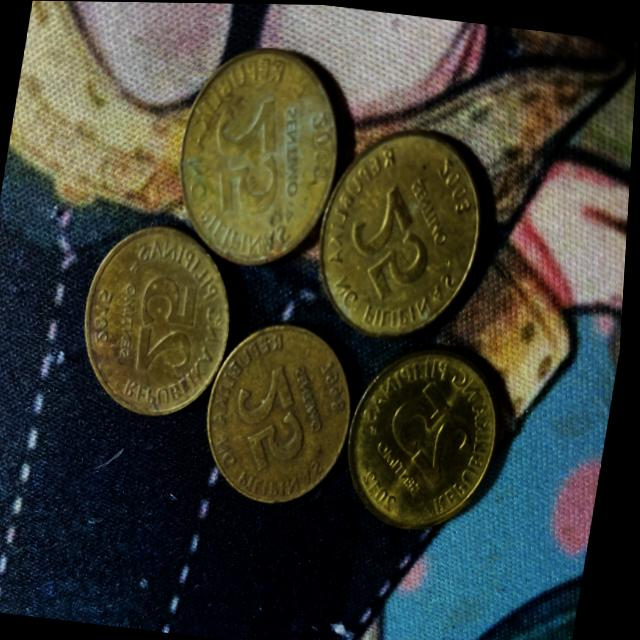25Cent_Old_Front: (206, 89, 296, 229), (345, 179, 442, 301), (233, 360, 320, 476), (390, 377, 484, 478), (133, 266, 211, 383)
